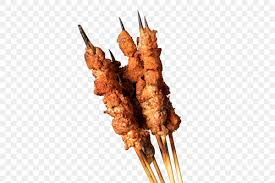Sate ayam: (72, 20, 159, 183), (111, 11, 189, 183), (130, 2, 204, 183)
